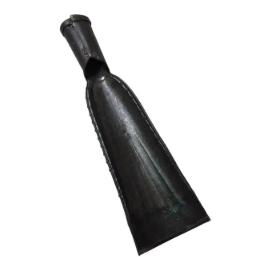PELLE: (56, 4, 224, 257)
